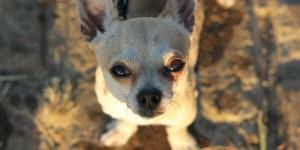chihuahua: (67, 1, 228, 150)
